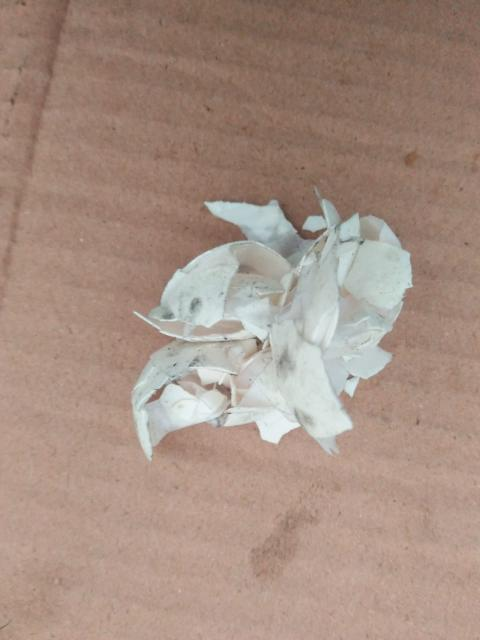Roto: (130, 186, 413, 462)
